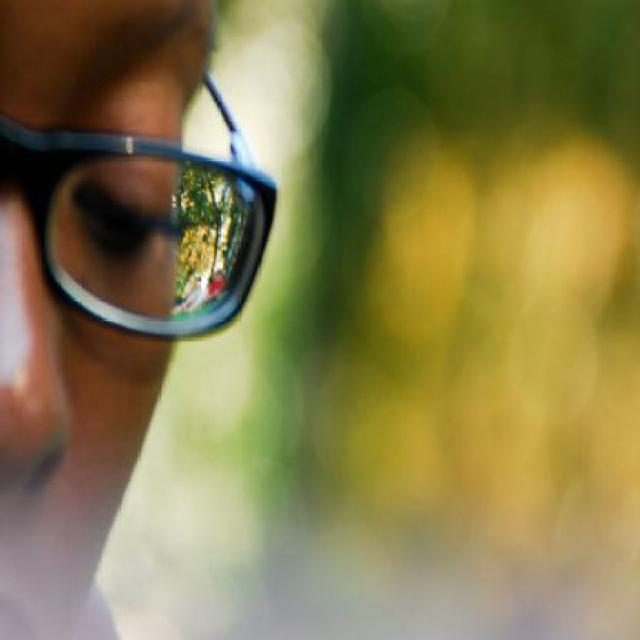glasses: (0, 63, 288, 339)
